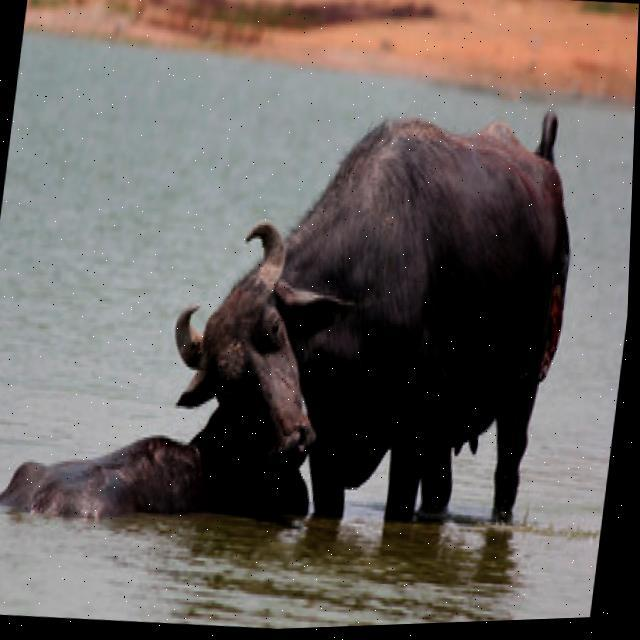Buffalo: (147, 87, 590, 547)
